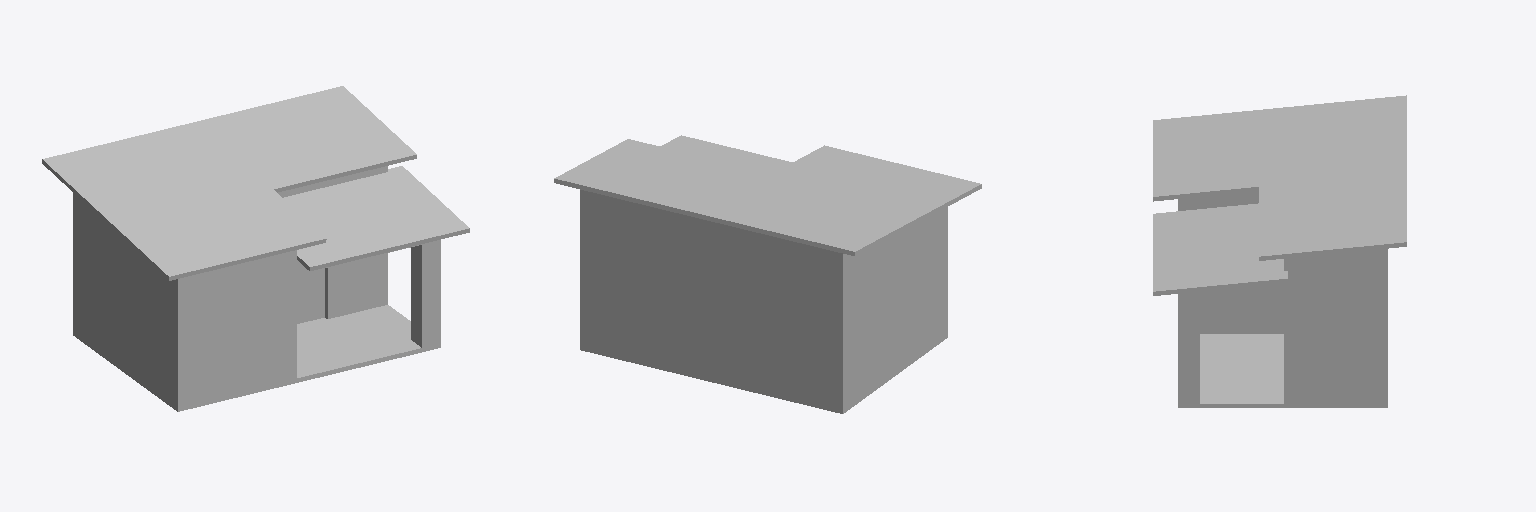
File: casita pro.obj
3 views of the same model, side by side, from view 1: azimuth 30°, elevation 25°; view 2: azimuth 150°, elevation 25°; view 3: azimuth 270°, elevation 25° (orthographic).
Visible parts, largest first — view 1: Plano; view 2: Plano; view 3: Plano.
Part boxes in pixels (x1,y1,x2,y2): Plano: (42, 86, 469, 411); Plano: (554, 135, 981, 413); Plano: (1153, 95, 1406, 407).
Bounding box in the file's own units: 14.27 × 7.9 × 10.45.